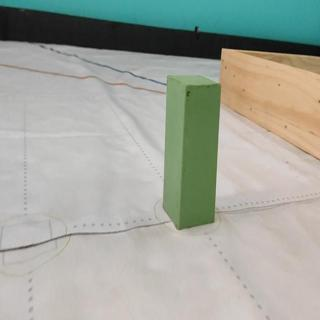greenbox: (162, 73, 221, 230)
